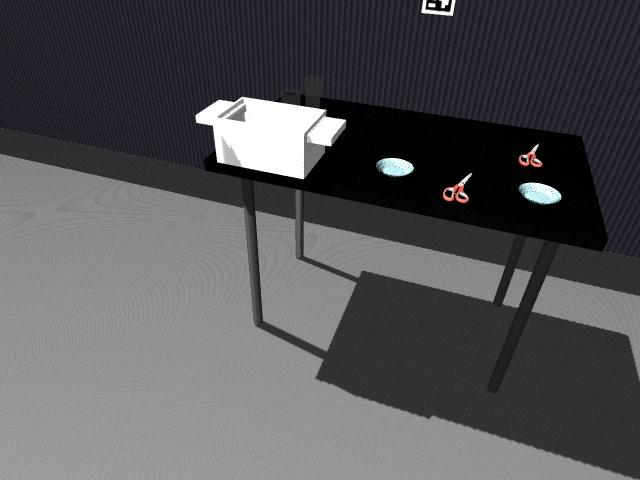cup: (304, 74, 323, 107), (280, 91, 303, 106)
plate: (517, 181, 562, 205), (374, 157, 414, 178)
scissors: (442, 171, 471, 202), (518, 143, 542, 168)
